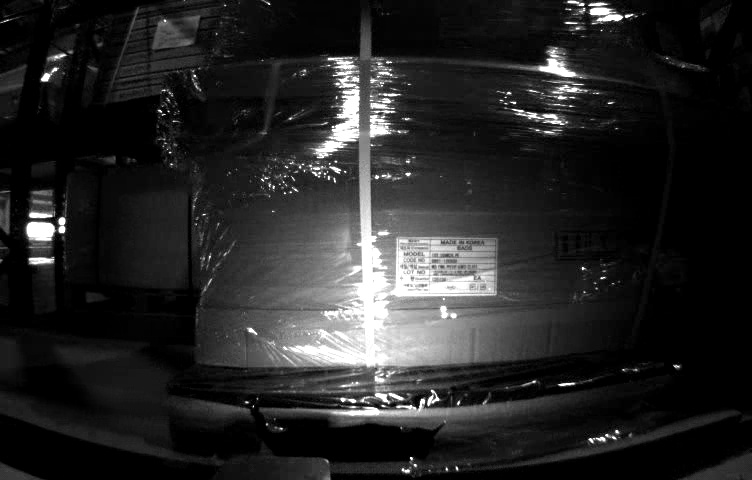True Barcode: (662, 257, 689, 288)
